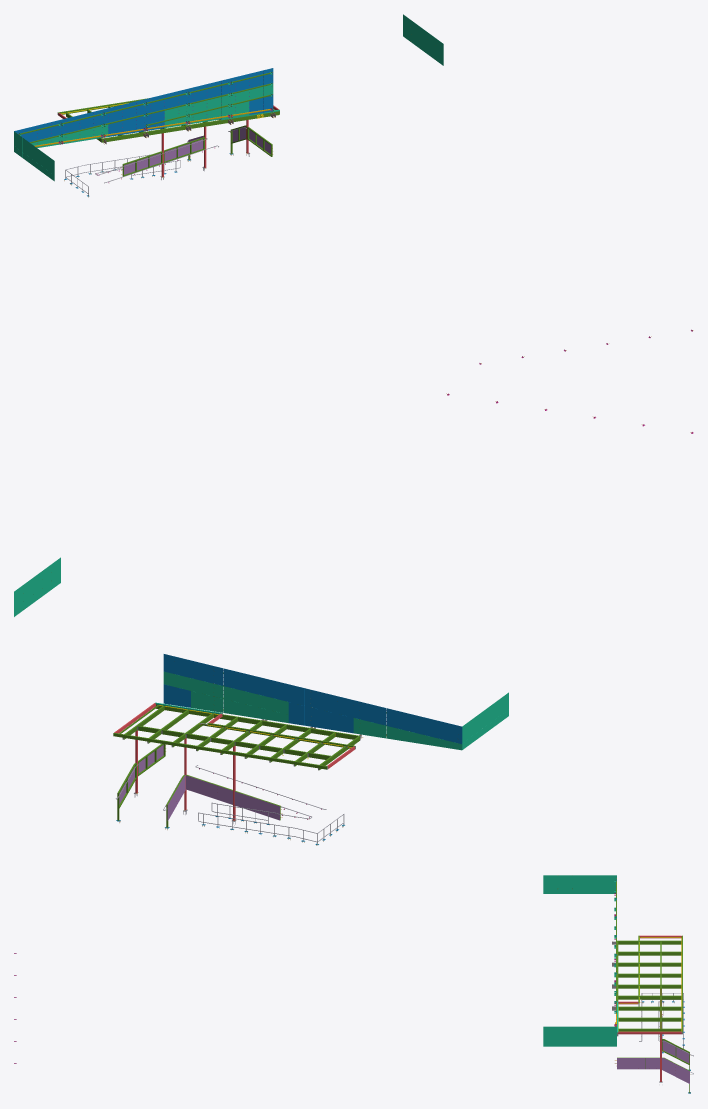
3 views of the same model, one above another, from view 1: azimuth 30°, elevation 25°; view 2: azimuth 150°, elevation 25°; view 3: azimuth 270°, elevation 25° (orthographic). The views are drawn at different scales.
Visible parts, largest first — view 1: Mesh 21053; view 2: Mesh 21053; view 3: Mesh 21053.
Boxes of the visible parts, <box> form: Mesh 21053: <box>14,14,693,364</box>; Mesh 21053: <box>14,393,693,845</box>; Mesh 21053: <box>14,875,693,1093</box>.
Size of the model in its own units: 33.59 by 11.45 by 56.32.
Materials: 1 (1 with a texture image).
